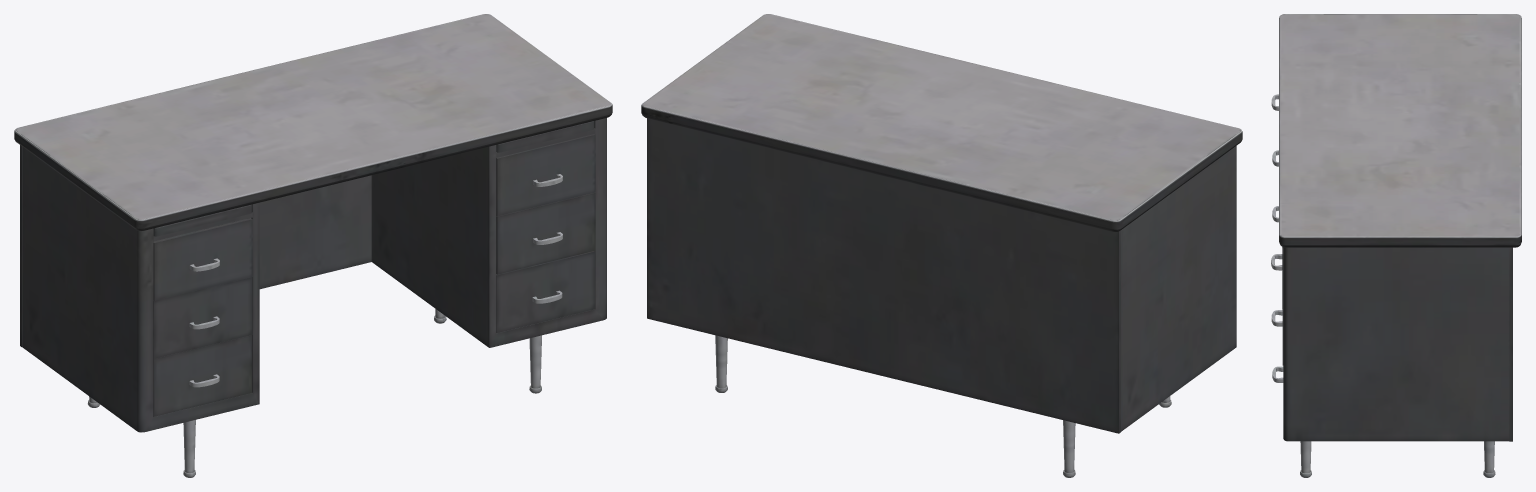
Rendered from metal-desk.d1fed8db83.glb.
The picture shows the model from 3 angles, left to right: view 1: azimuth 30°, elevation 25°; view 2: azimuth 150°, elevation 25°; view 3: azimuth 270°, elevation 25°; orthographic projection. The views are drawn at different scales.
Visible parts, largest first — view 1: metal_office_desk_drawer_06; view 2: metal_office_desk_drawer_06; view 3: metal_office_desk_drawer_06.
Boxes of the visible parts, <box> form: metal_office_desk_drawer_06: <box>14,14,612,477</box>; metal_office_desk_drawer_06: <box>641,14,1242,477</box>; metal_office_desk_drawer_06: <box>1271,14,1521,477</box>.
Size of the model in its own units: 1.4 by 0.7874 by 0.663.
1 material, 1 textured.
